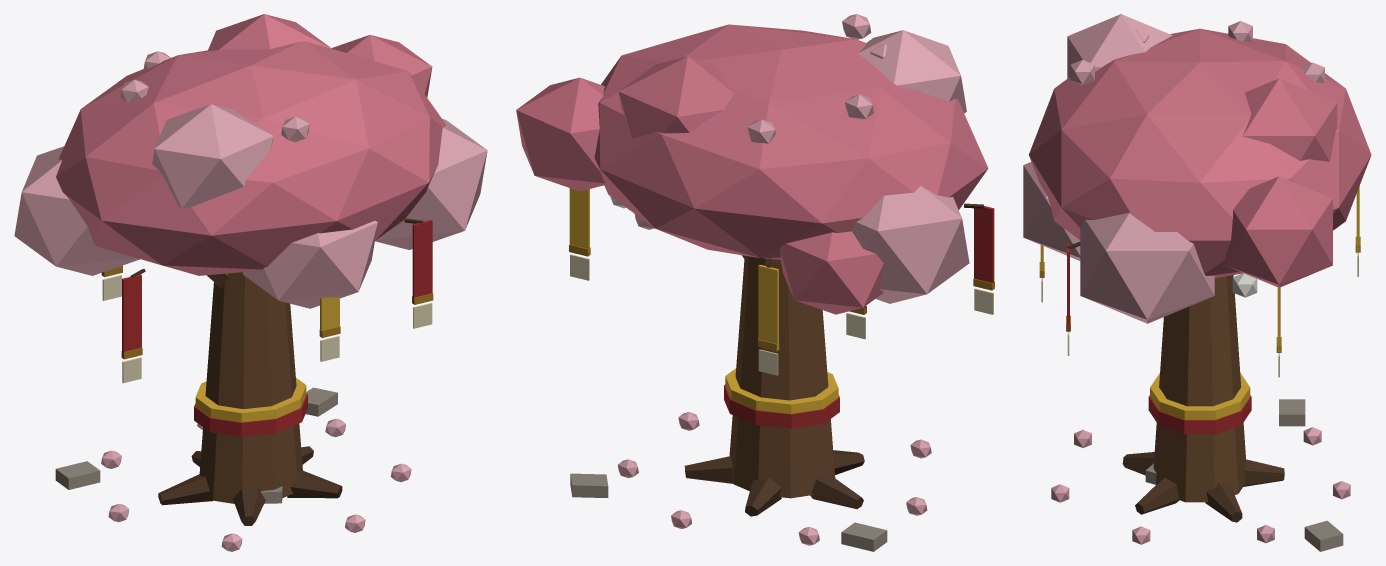
The model's file is Decor_DogeAltar_WishTree.fbx.
3 views of the same model, side by side, from view 1: azimuth 30°, elevation 25°; view 2: azimuth 150°, elevation 25°; view 3: azimuth 270°, elevation 25° (orthographic). The views are drawn at different scales.
Visible parts, largest first — view 1: WishTree_Body; view 2: WishTree_Body; view 3: WishTree_Body.
Boxes of the visible parts, x1,y1,x2,y2 form: WishTree_Body: (14, 14, 487, 551); WishTree_Body: (516, 14, 994, 551); WishTree_Body: (1023, 14, 1371, 551).
Size of the model in its own units: 18 by 18 by 13.
